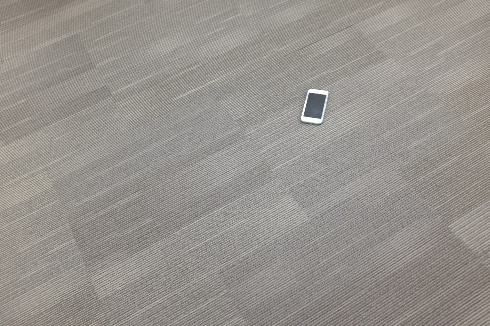phone: (291, 90, 340, 122)
